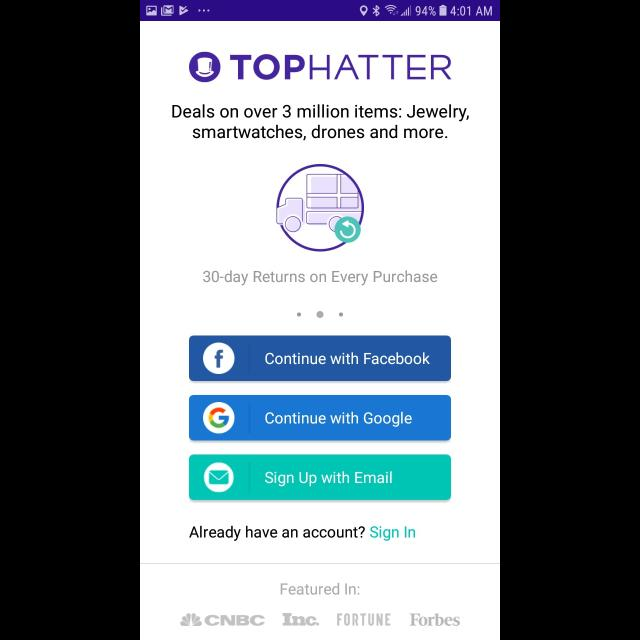image: (188, 52, 452, 84), (276, 164, 364, 252), (180, 614, 202, 626)
pageindicator: (297, 310, 343, 318)
text: (172, 105, 470, 142), (202, 270, 438, 286), (189, 525, 415, 541), (280, 582, 360, 594), (337, 612, 391, 626), (204, 614, 266, 626), (409, 612, 459, 626), (282, 612, 320, 626)
textbutton: (189, 455, 451, 501), (189, 395, 451, 441), (189, 335, 451, 381)
uppertaskbar: (140, 1, 500, 22)
